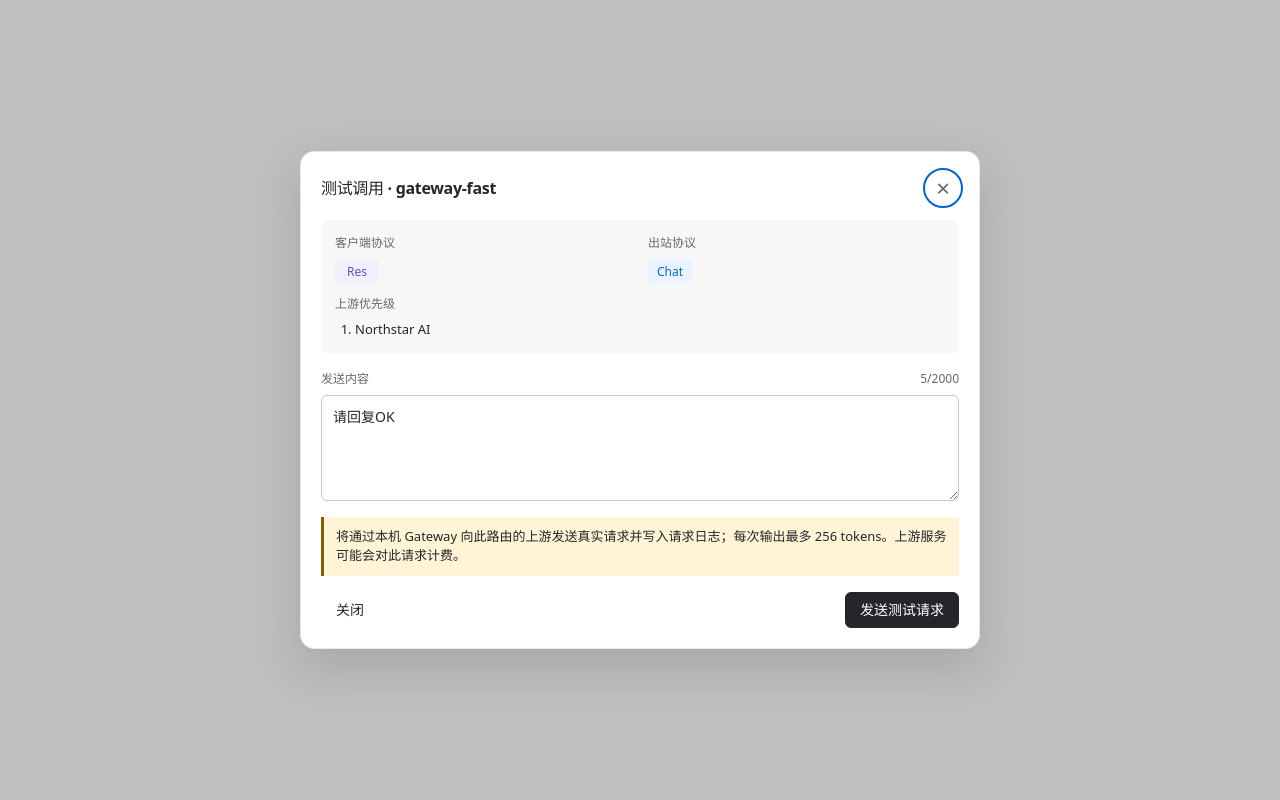
RouteTestDialog › opens with the requested prompt and renders the real response result
This screenshot has width=1280, height=800.
Expected: the dialog "测试调用 · gateway-fast" is shown, top-left (300, 151), bottom-right (980, 649)
Expected: the text box labelled "发送内容" holds "请回复OK", top-left (321, 395), bottom-right (959, 501)
What coordinates should you click on to do the following:
click the button "发送测试请求"
I would click on:
 (902, 610)
Its box is top-left (845, 592), bottom-right (959, 628).
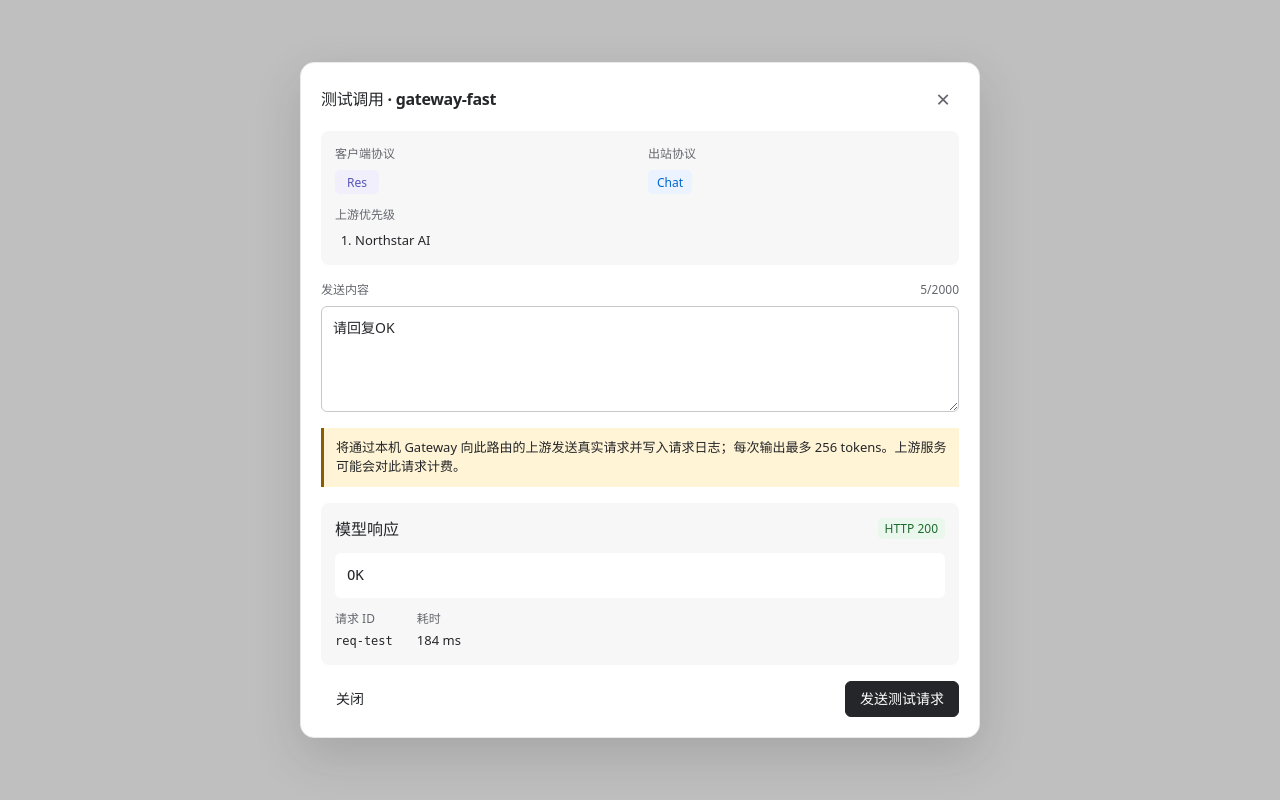
Now the text "OK" is shown, box top-left (335, 553), bottom-right (945, 598)
Now the text "req-test" is shown, box top-left (335, 634), bottom-right (393, 648)
Now the text "184 ms" is shown, box top-left (417, 631), bottom-right (461, 651)
